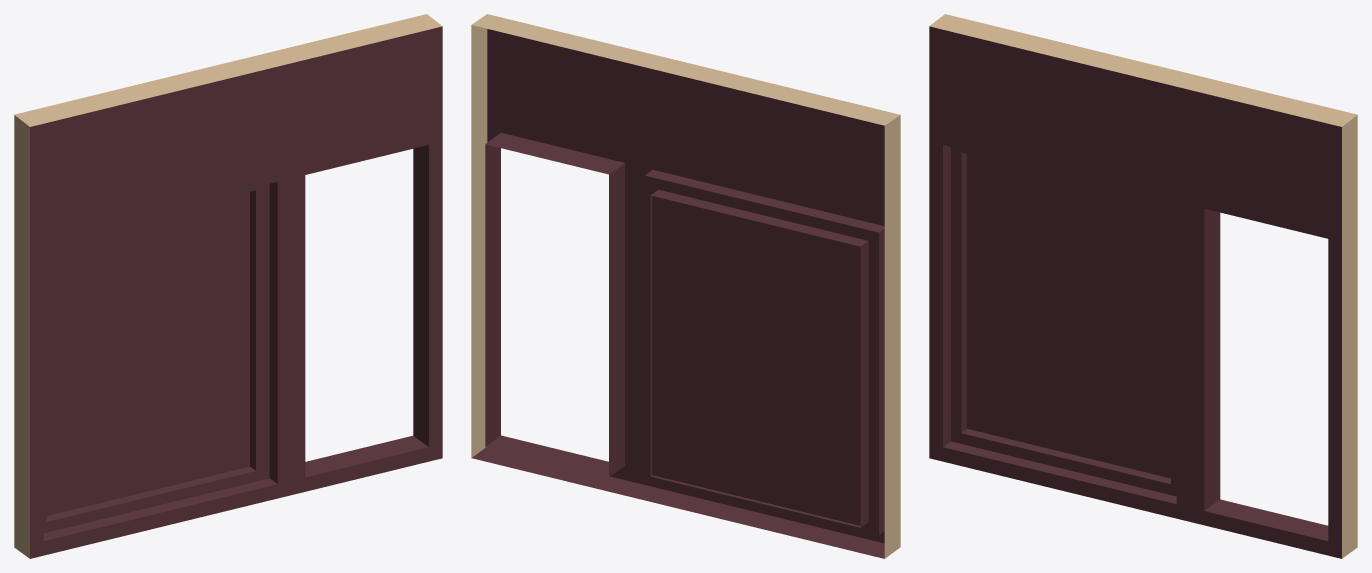
Rendered from house-wall-window-portal-door-3x3m.fbx.
3 renders of one model, left to right at view 1: azimuth 30°, elevation 25°; view 2: azimuth 150°, elevation 25°; view 3: azimuth 330°, elevation 25°, orthographic.
Visible parts, largest first — view 1: house-wall-window-portal-door-3x3m; view 2: house-wall-window-portal-door-3x3m; view 3: house-wall-window-portal-door-3x3m.
Part boxes in pixels (left/top/right/bottom): house-wall-window-portal-door-3x3m: left=14, top=14, right=442, bottom=558; house-wall-window-portal-door-3x3m: left=471, top=14, right=900, bottom=558; house-wall-window-portal-door-3x3m: left=929, top=14, right=1357, bottom=558.
Size of the model in its own units: 3 by 3.01 by 0.2.
